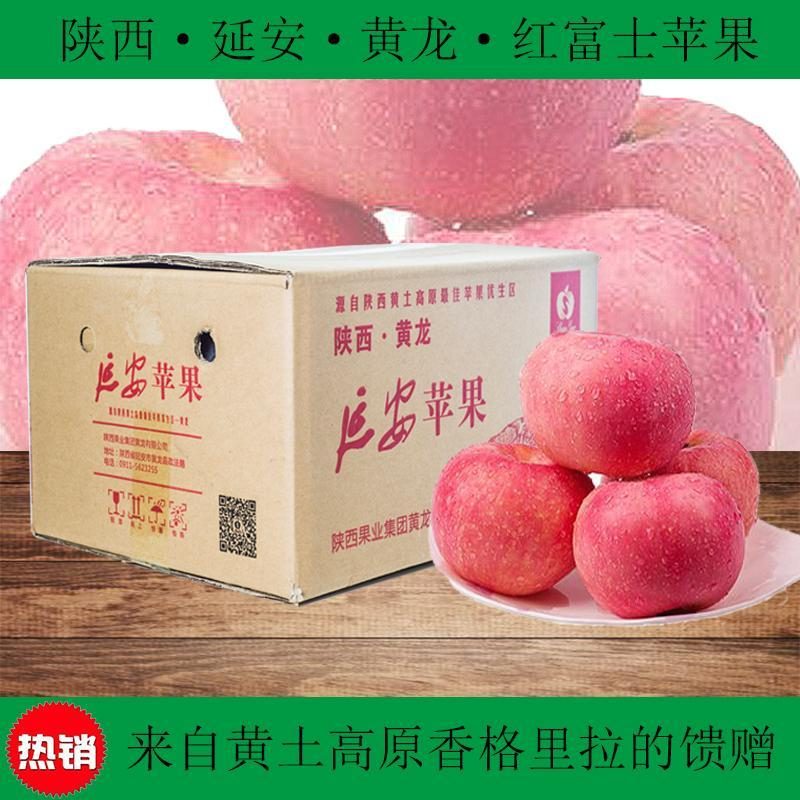apple: (570, 473, 746, 618), (522, 331, 695, 474), (435, 443, 594, 598), (602, 431, 759, 538)
